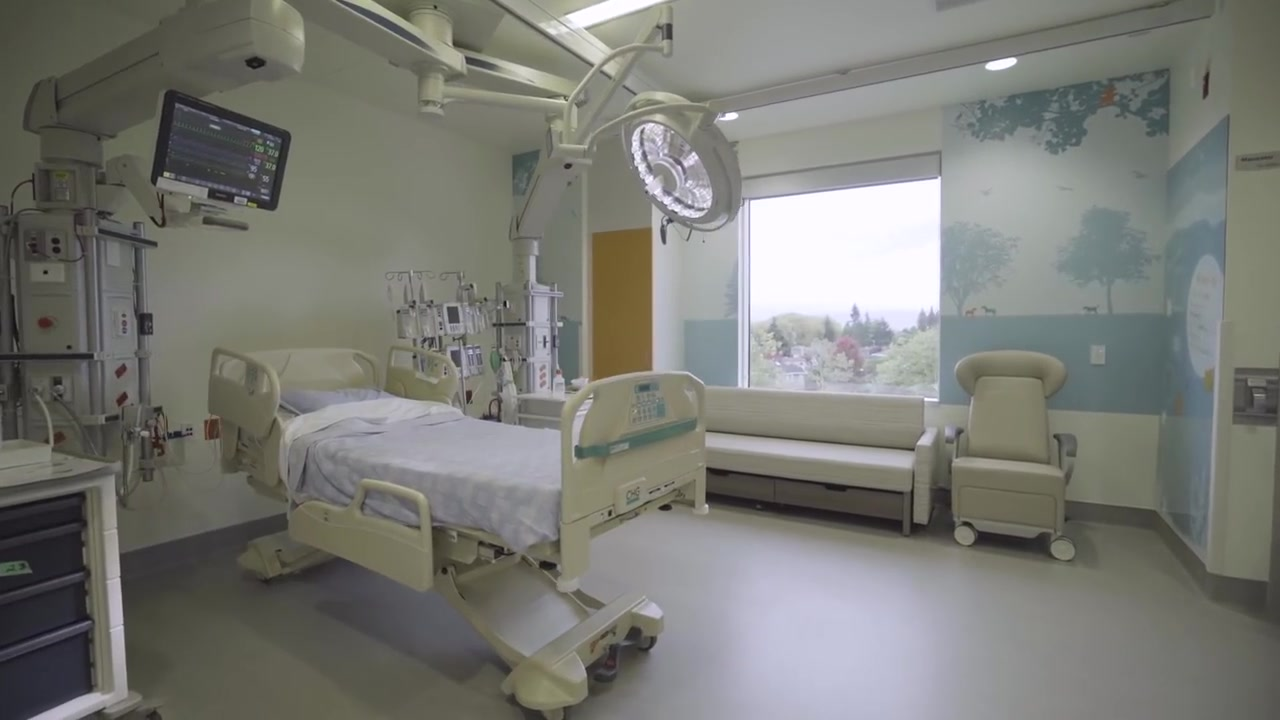bedrail: (288, 477, 436, 594), (206, 345, 282, 440), (386, 343, 460, 407)
bedside_monitor: (151, 87, 291, 213)
chair: (945, 349, 1078, 561)
foot_board: (557, 372, 709, 571)
hospital_bed: (205, 349, 709, 720)
infusion_pump: (390, 300, 492, 340), (412, 347, 485, 377)
iv_pole: (438, 270, 486, 416), (384, 269, 434, 348)
light_switch: (1090, 345, 1106, 365)
medical_drawer: (1, 448, 164, 720)
sofa: (709, 385, 940, 537)
surgical_light: (622, 89, 743, 233)
